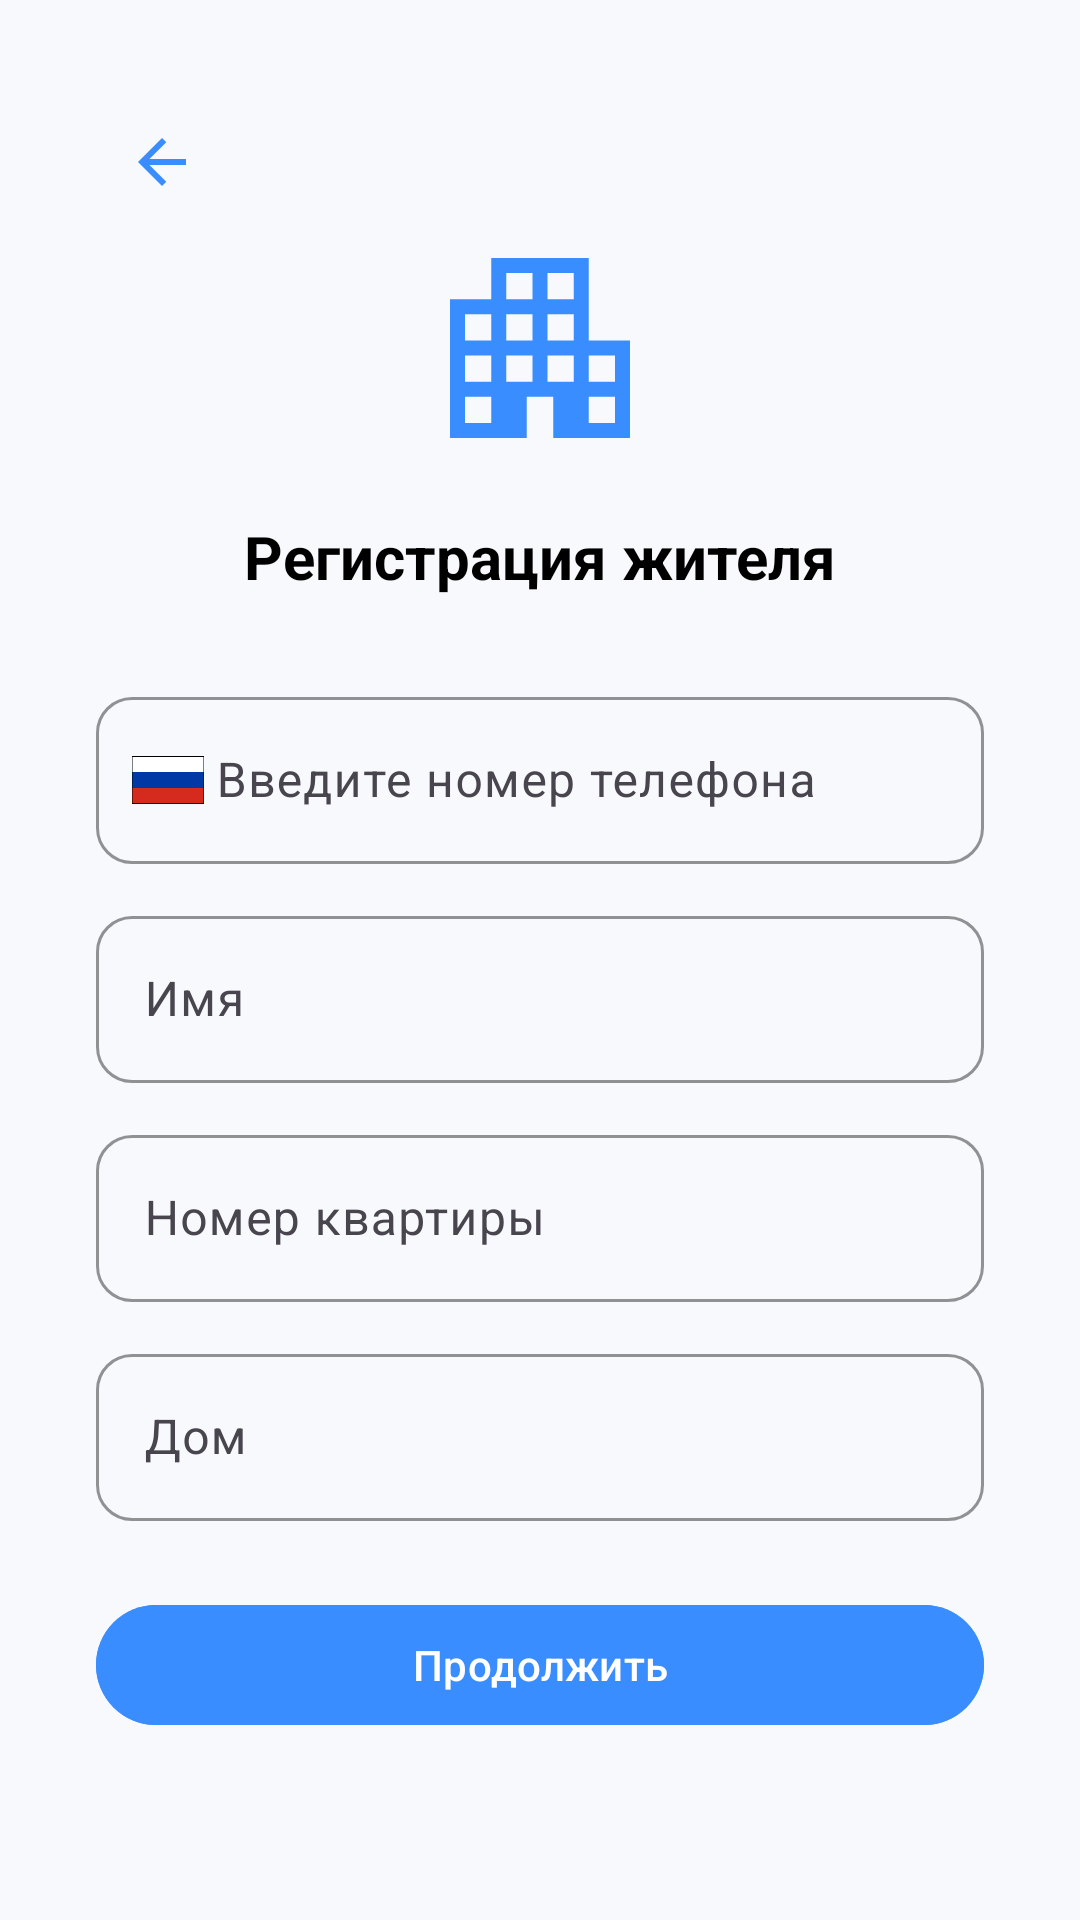

Where icons sit on this 1080×1920 app screen, as (x1, y1, x2, y2):
back: (138, 138, 186, 186)
